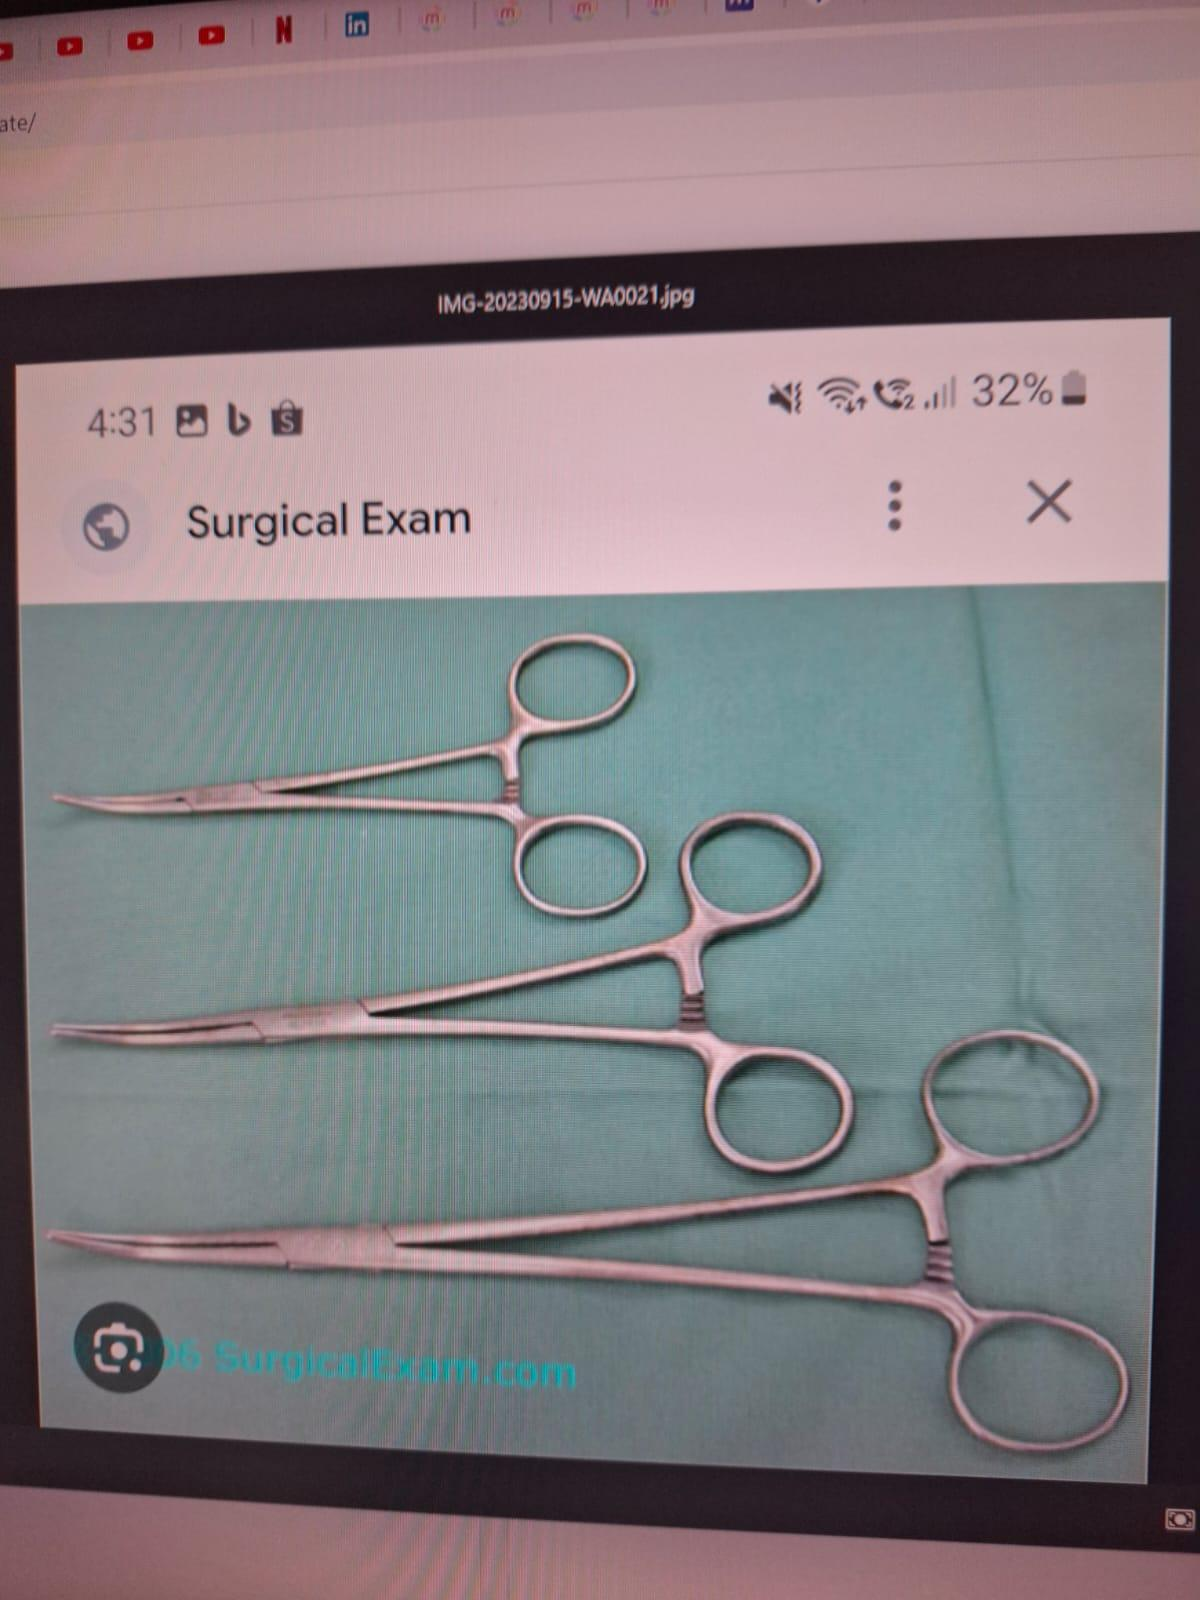Artery Forceps: (38, 995, 1142, 1463), (43, 805, 872, 1196), (45, 620, 679, 925)
